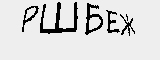Б: (83, 2, 103, 38)
Е: (104, 7, 122, 36)
Ж: (118, 12, 137, 38)
Р: (17, 2, 39, 34)
Ш: (38, 1, 81, 37)
